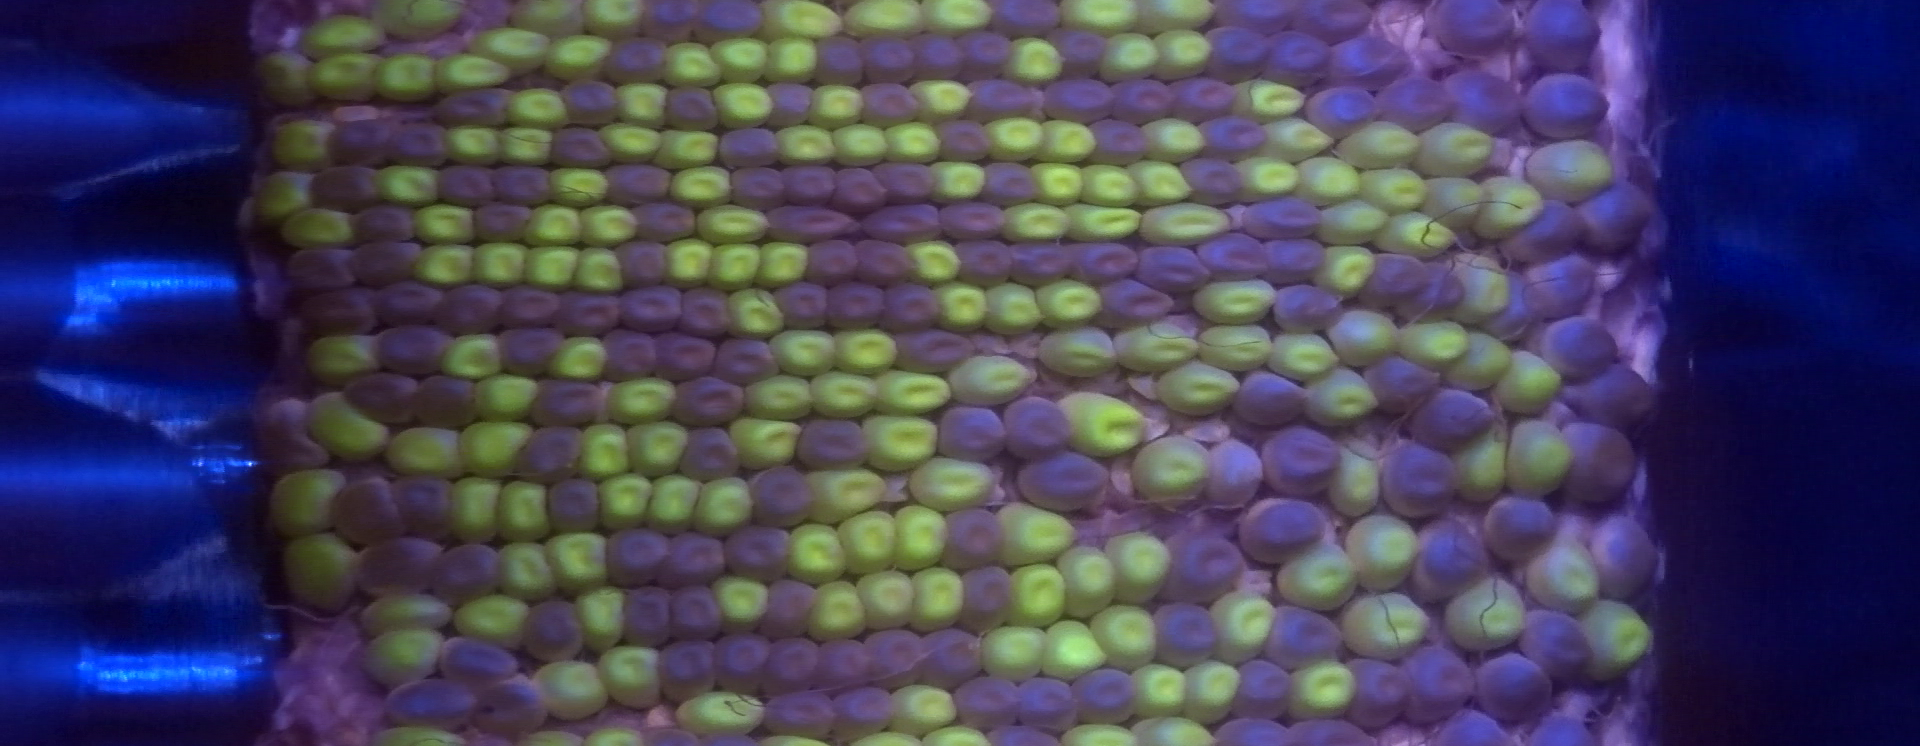fluorescent: (1438, 567, 1536, 658), (273, 530, 371, 620), (1516, 132, 1626, 211), (1569, 593, 1658, 688), (1336, 587, 1439, 668), (1340, 507, 1428, 601), (1271, 538, 1371, 619), (300, 385, 396, 468), (256, 463, 355, 543), (1052, 386, 1153, 463), (1520, 532, 1608, 619), (1080, 597, 1171, 681), (1127, 429, 1220, 511), (1499, 413, 1573, 507), (1149, 353, 1249, 423), (988, 499, 1082, 572), (1447, 414, 1521, 508), (351, 624, 452, 692), (535, 523, 620, 601), (1201, 586, 1281, 668), (376, 420, 473, 488), (588, 639, 673, 715), (796, 462, 894, 528), (827, 501, 909, 579), (902, 451, 1000, 516), (448, 415, 542, 483), (1436, 249, 1513, 331), (1491, 343, 1569, 425), (1100, 526, 1176, 609), (1333, 111, 1433, 175), (1299, 360, 1384, 435), (1035, 614, 1116, 691), (994, 560, 1078, 635), (524, 657, 620, 722), (1049, 539, 1122, 625), (1324, 436, 1392, 526), (1464, 174, 1554, 243), (1108, 314, 1206, 376), (1276, 654, 1360, 726), (1133, 195, 1238, 252), (800, 575, 879, 650), (720, 408, 811, 474), (855, 407, 947, 472), (444, 587, 536, 652), (939, 352, 1038, 412), (878, 677, 971, 741), (436, 472, 509, 551), (245, 162, 327, 233), (667, 686, 775, 740), (349, 588, 459, 641), (1191, 271, 1286, 332), (849, 565, 926, 639), (1172, 657, 1249, 731), (1412, 116, 1499, 183), (1325, 303, 1407, 372), (300, 47, 388, 111), (900, 563, 975, 639), (260, 113, 345, 179), (249, 43, 327, 115), (1247, 113, 1347, 169), (1413, 169, 1495, 238), (291, 9, 396, 62), (972, 621, 1056, 688), (684, 472, 764, 541), (1440, 327, 1522, 394), (564, 415, 640, 488), (1369, 203, 1462, 262), (866, 366, 962, 423), (299, 330, 389, 390), (491, 534, 564, 608), (491, 477, 562, 552), (567, 582, 638, 658), (762, 321, 852, 380), (1308, 194, 1398, 252), (1304, 240, 1386, 305), (585, 469, 662, 538), (1033, 321, 1122, 381), (1352, 160, 1440, 220), (599, 371, 684, 432), (1392, 314, 1478, 375), (460, 23, 560, 76), (776, 521, 853, 588), (1188, 320, 1280, 376), (1261, 327, 1346, 388), (707, 570, 781, 638), (639, 465, 707, 541), (462, 367, 549, 426), (618, 416, 696, 483), (1086, 27, 1169, 88), (1288, 151, 1371, 212), (273, 205, 367, 258), (700, 78, 785, 138), (1131, 114, 1218, 171), (1224, 149, 1311, 207), (738, 367, 822, 428), (1029, 274, 1112, 334), (973, 278, 1053, 341), (802, 366, 887, 425), (1122, 153, 1206, 212), (887, 502, 955, 575), (1224, 73, 1316, 127), (534, 31, 624, 85), (1122, 657, 1193, 725), (365, 156, 449, 213), (407, 236, 487, 296), (827, 322, 907, 382), (991, 31, 1071, 91), (1059, 196, 1151, 249), (365, 49, 447, 108), (539, 330, 618, 390), (700, 31, 779, 91), (720, 281, 792, 345), (687, 198, 779, 249), (405, 198, 489, 254), (924, 276, 998, 338), (432, 327, 512, 385), (747, 233, 822, 294), (835, 1, 936, 47), (365, 1, 468, 45), (1145, 26, 1222, 85), (516, 196, 594, 254), (894, 234, 972, 292), (606, 75, 680, 136), (1027, 115, 1107, 171), (660, 160, 741, 216), (589, 116, 673, 169), (1071, 156, 1149, 213), (980, 109, 1053, 169), (901, 73, 981, 129), (654, 233, 722, 296), (426, 51, 519, 98), (649, 39, 729, 93), (800, 78, 876, 135), (767, 120, 849, 171), (756, 1, 851, 45), (541, 160, 618, 214), (567, 241, 634, 303), (462, 236, 533, 294), (921, 154, 994, 209), (992, 198, 1079, 245), (487, 119, 562, 173), (516, 239, 587, 295), (824, 120, 900, 173), (500, 83, 579, 134), (433, 119, 507, 173), (876, 118, 949, 171), (700, 239, 768, 298), (647, 125, 729, 173), (756, 34, 827, 89), (572, 200, 647, 251), (1021, 158, 1096, 209), (1129, 1, 1224, 40), (1052, 1, 1142, 42), (913, 1, 1004, 40), (504, 1, 591, 42), (576, 1, 651, 45)
nonfluorescent: (1401, 510, 1499, 609), (1549, 412, 1642, 512), (1371, 434, 1471, 526), (1516, 65, 1622, 147), (1584, 511, 1669, 611), (1149, 526, 1251, 608), (1249, 419, 1351, 501), (1392, 641, 1484, 731), (1464, 649, 1566, 729), (1228, 492, 1336, 567), (344, 532, 452, 605), (1509, 603, 1602, 687), (1251, 601, 1354, 677), (1494, 194, 1596, 269), (1575, 173, 1660, 261), (1476, 489, 1569, 570), (1014, 447, 1118, 519), (376, 671, 489, 737), (1529, 312, 1629, 387), (249, 394, 336, 479), (1398, 383, 1500, 456), (324, 472, 411, 555), (1356, 348, 1452, 423), (1513, 1, 1609, 76), (1335, 653, 1420, 735), (1435, 65, 1529, 138), (1193, 434, 1273, 519), (418, 538, 509, 612), (1224, 363, 1319, 435), (1142, 595, 1227, 675), (431, 628, 533, 695), (1571, 360, 1662, 432), (716, 519, 804, 593), (382, 468, 464, 545), (648, 526, 738, 595), (465, 671, 556, 741), (1369, 69, 1460, 138), (996, 391, 1080, 465), (742, 459, 827, 534), (1319, 31, 1420, 92), (1527, 240, 1602, 323), (336, 366, 426, 435), (929, 402, 1021, 469), (362, 318, 459, 382), (931, 505, 1013, 579), (1424, 1, 1522, 62), (1480, 258, 1547, 349), (600, 521, 680, 595), (753, 625, 827, 706), (1067, 661, 1149, 734), (787, 414, 880, 478), (853, 625, 938, 695), (506, 420, 591, 489), (947, 669, 1033, 736), (514, 594, 594, 668), (912, 622, 993, 695), (665, 372, 760, 432), (756, 686, 852, 745), (1393, 254, 1472, 325), (1222, 655, 1300, 726), (291, 283, 386, 342), (1089, 274, 1180, 334), (1128, 243, 1220, 303), (426, 274, 509, 341), (1196, 21, 1280, 87), (1353, 247, 1436, 314), (405, 371, 489, 436), (707, 627, 781, 699), (651, 635, 726, 707), (887, 322, 982, 379), (1258, 26, 1341, 89), (951, 562, 1021, 638), (749, 575, 827, 643), (1299, 82, 1387, 142), (1262, 281, 1354, 338), (487, 320, 572, 382), (669, 423, 749, 488), (539, 472, 612, 543), (1193, 223, 1276, 285), (658, 579, 735, 647), (615, 582, 682, 659), (365, 274, 453, 333), (944, 233, 1022, 299), (855, 196, 953, 249), (520, 375, 605, 435), (545, 282, 627, 343), (899, 27, 976, 92), (756, 201, 862, 247), (1193, 109, 1278, 167), (1011, 673, 1087, 737), (1238, 194, 1331, 246), (849, 27, 927, 89), (645, 326, 724, 388), (819, 274, 893, 341), (849, 233, 924, 296), (825, 682, 901, 746), (1255, 234, 1338, 292), (317, 115, 404, 170), (1033, 72, 1120, 127), (594, 160, 684, 213), (593, 323, 666, 388), (302, 159, 387, 216), (279, 243, 360, 301), (599, 31, 676, 92), (959, 73, 1051, 125), (707, 333, 789, 391), (1171, 152, 1249, 212), (377, 118, 457, 176), (1162, 72, 1247, 127), (874, 276, 951, 336), (425, 82, 519, 131), (342, 235, 427, 289), (806, 29, 876, 96), (1040, 22, 1118, 81), (973, 156, 1053, 213), (1060, 235, 1145, 289), (669, 283, 741, 345), (864, 153, 939, 213), (1004, 233, 1080, 292), (849, 76, 929, 131), (609, 283, 689, 338), (934, 194, 1015, 249), (606, 235, 678, 296), (426, 160, 506, 216), (551, 76, 628, 132), (765, 278, 838, 338), (808, 635, 880, 695), (540, 122, 622, 175), (624, 196, 707, 249), (948, 23, 1015, 87), (1104, 71, 1180, 127), (1080, 114, 1153, 171), (820, 162, 894, 219), (268, 314, 321, 393), (340, 200, 425, 249), (720, 159, 793, 216), (1288, 1, 1380, 45), (493, 281, 568, 334), (926, 114, 1000, 167), (753, 78, 824, 134), (1205, 1, 1308, 39), (482, 160, 560, 211), (800, 236, 868, 293), (688, 1, 770, 48), (467, 196, 539, 249), (655, 83, 729, 135), (711, 122, 789, 171), (778, 160, 846, 214), (987, 1, 1074, 42), (634, 1, 707, 47)
